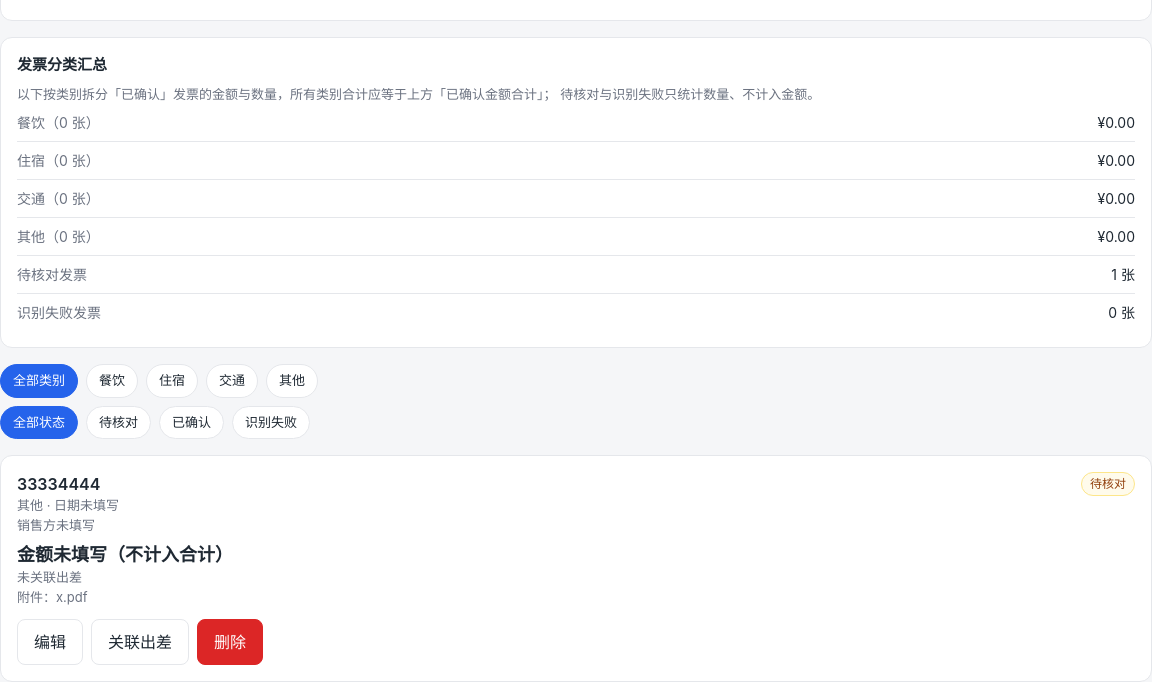
Test: 发票管理页 UI › 删除发票需要二次确认
This screenshot has width=1152, height=682.
(page scrolled)
Expected: the text "33334444" is shown, [17,472,100,496]
Click the button "删除".
click(230, 642)  # box [197,619,263,665]
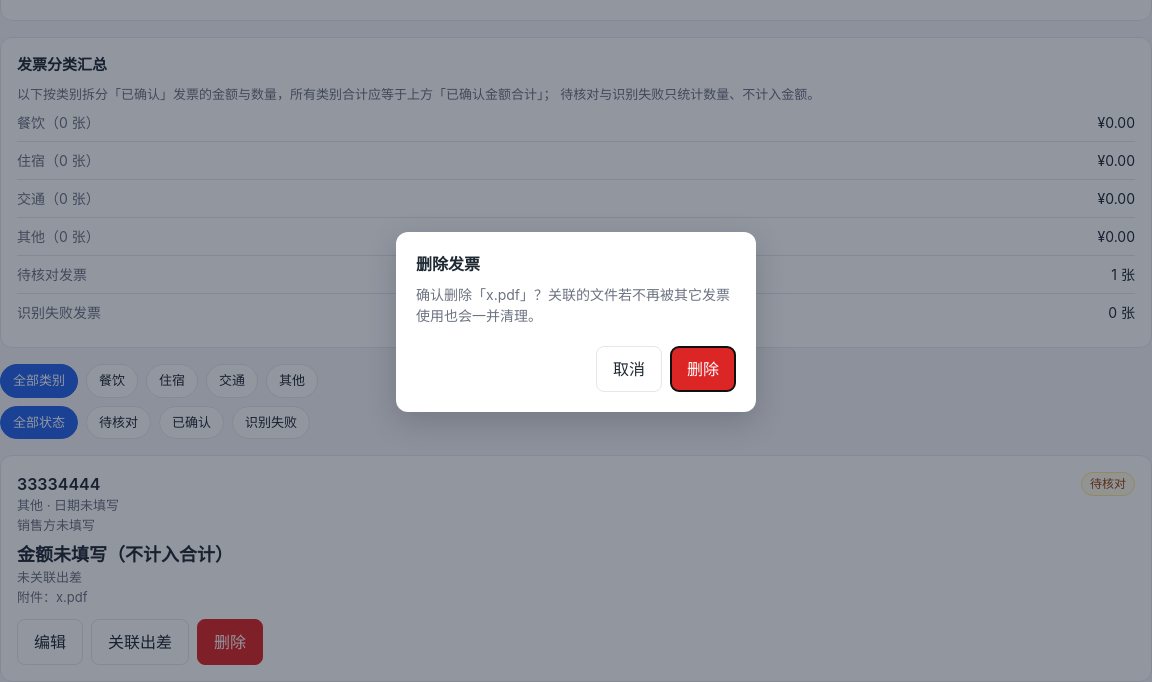
Click the button "删除".
click(703, 369)  # box [670,346,736,392]
(page scrolled)
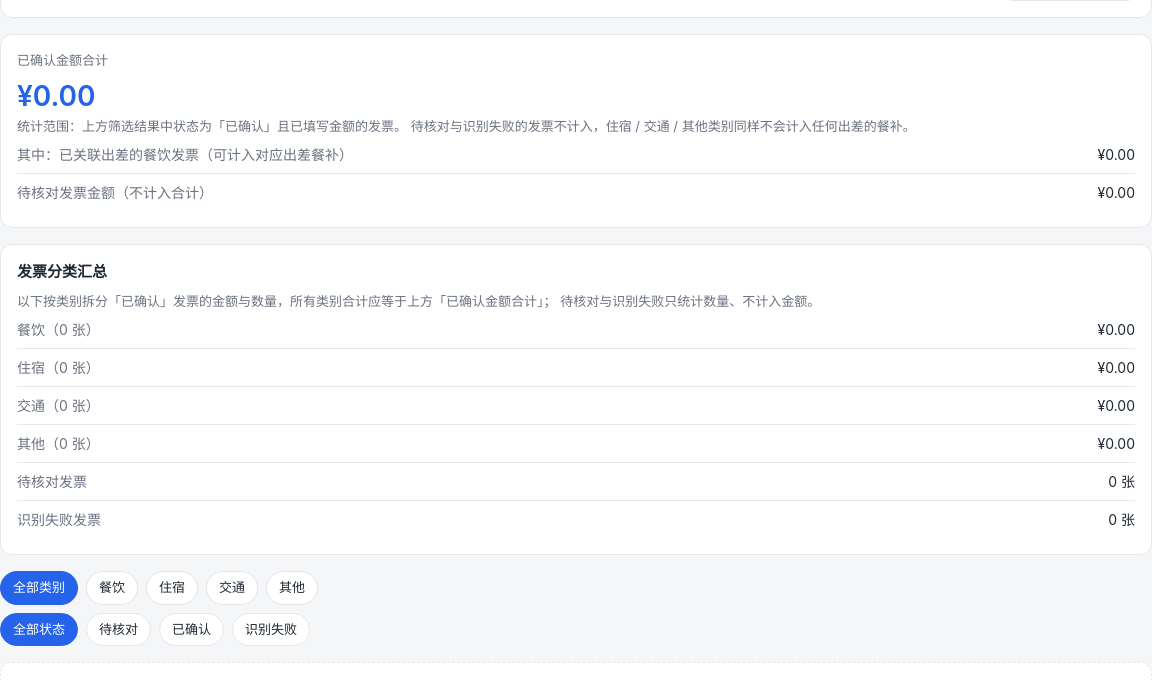
Now the text "33334444" is gone
